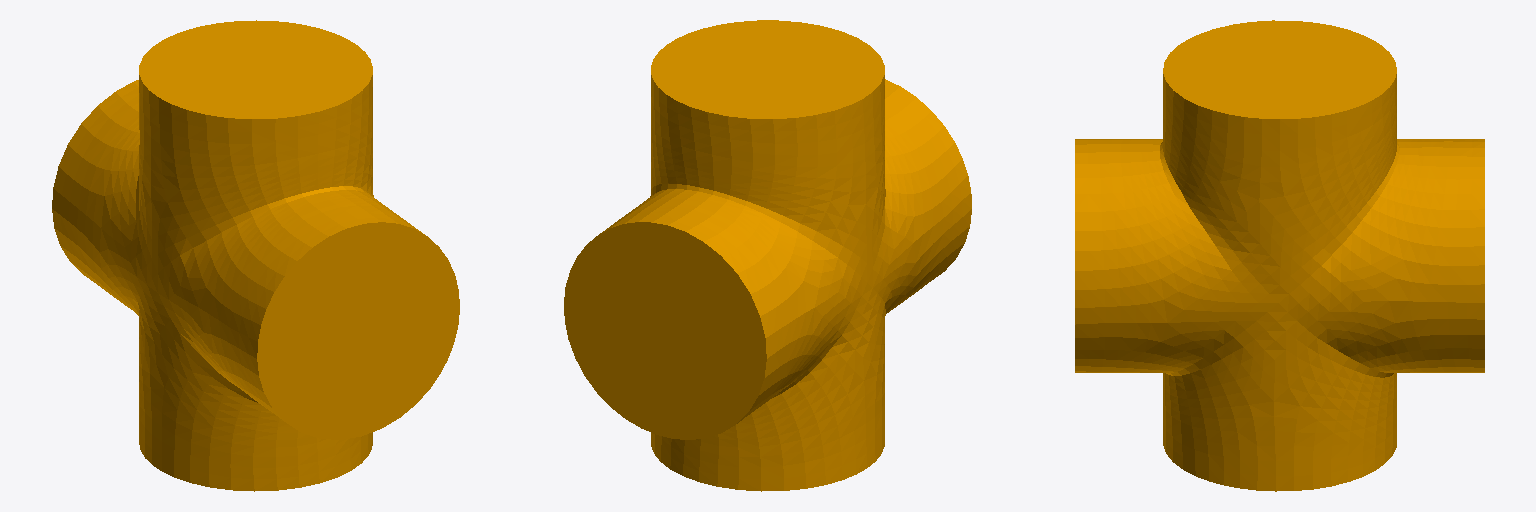
robot.urdf — object:
<robot name="object">
  <link name="object">
    <visual>
      <origin xyz="0 0 0"/>
      <geometry>
        <mesh filename="visual.obj" scale="1 1 1"/>
      </geometry>
    </visual>
    <collision>
      <origin xyz="0 0 0"/>
      <geometry>
        <mesh filename="visual.obj" scale="1 1 1"/>
      </geometry>
    </collision>
    <inertial>
      <mass value="0.05"/>
      <inertia ixx="5.65361410435515e-05" iyy="3.819953882058561e-05" izz="3.819708266215302e-05" ixy="-8.590031717854989e-10" ixz="-2.1687084880599332e-09" iyz="4.590059817365549e-11"/>
    </inertial>
  </link>
</robot>

--- What the picture shows (computed from the rendered views, not written in the file) ---
Views: 3 orthographic renders of the robot side by side, from view 1: azimuth 30°, elevation 25°; view 2: azimuth 150°, elevation 25°; view 3: azimuth 270°, elevation 25°.
Model object with 1 links and 0 joints (none), rooted at object, posed all joints at 0.
Visible links, largest first — view 1: object; view 2: object; view 3: object.
Link boxes in pixels (bbox=[...]): object: bbox=[52, 20, 459, 491]; object: bbox=[564, 20, 971, 491]; object: bbox=[1075, 20, 1484, 491].
Bounding box of the posed robot: 0.0548 × 0.096 × 0.096 m (x, y, z).
Meshes: 1 distinct files referenced, 1 mesh visuals loaded (1 OBJ).
